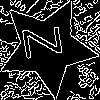Z: (22, 22, 72, 60)
